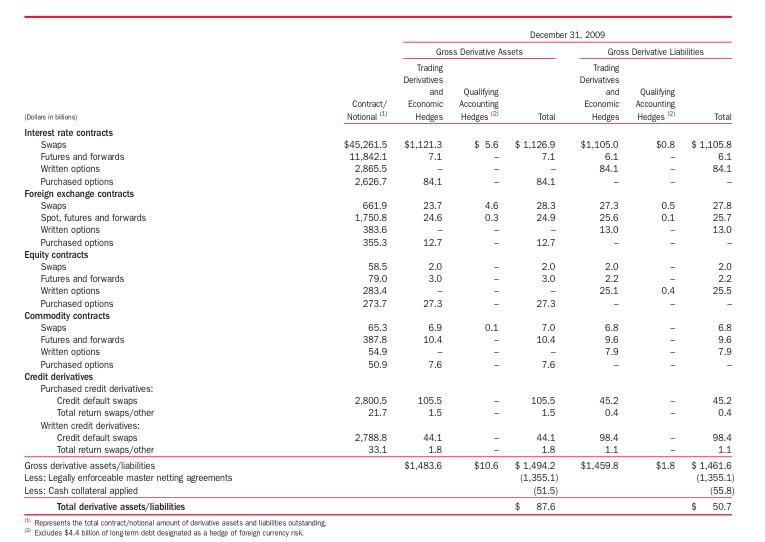table: (23, 28, 733, 511)
table column: (23, 28, 287, 511), (287, 28, 394, 511), (505, 28, 567, 511), (567, 28, 626, 511), (394, 28, 450, 511), (626, 28, 682, 511), (450, 28, 505, 511), (682, 28, 733, 511)
table column header: (23, 28, 733, 122)
table projected row header: (23, 122, 733, 137), (23, 307, 733, 320), (23, 368, 733, 381), (23, 186, 733, 198), (23, 247, 733, 259), (23, 381, 733, 393), (23, 417, 733, 429)
table row: (23, 58, 733, 122), (23, 41, 733, 58), (23, 122, 733, 137), (23, 482, 733, 497), (23, 442, 733, 456), (23, 456, 733, 470), (23, 497, 733, 511), (23, 28, 733, 41), (23, 173, 733, 186), (23, 234, 733, 247), (23, 307, 733, 320), (23, 368, 733, 381), (23, 429, 733, 442), (23, 137, 733, 149), (23, 149, 733, 161), (23, 161, 733, 173), (23, 186, 733, 198), (23, 198, 733, 210), (23, 210, 733, 222), (23, 222, 733, 234), (23, 247, 733, 259), (23, 259, 733, 271), (23, 271, 733, 283), (23, 283, 733, 295), (23, 295, 733, 307), (23, 320, 733, 332), (23, 332, 733, 344), (23, 344, 733, 356), (23, 356, 733, 368), (23, 381, 733, 393), (23, 393, 733, 405), (23, 405, 733, 417), (23, 417, 733, 429), (23, 470, 733, 482)
table spanning cell: (23, 28, 287, 122), (287, 28, 394, 122), (394, 28, 733, 41), (394, 41, 567, 58), (567, 41, 733, 58)
